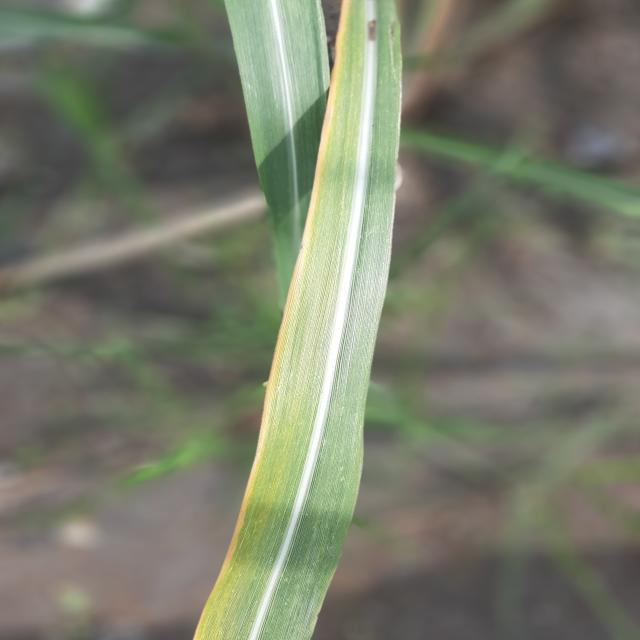Sugarcane: (192, 0, 404, 639)
